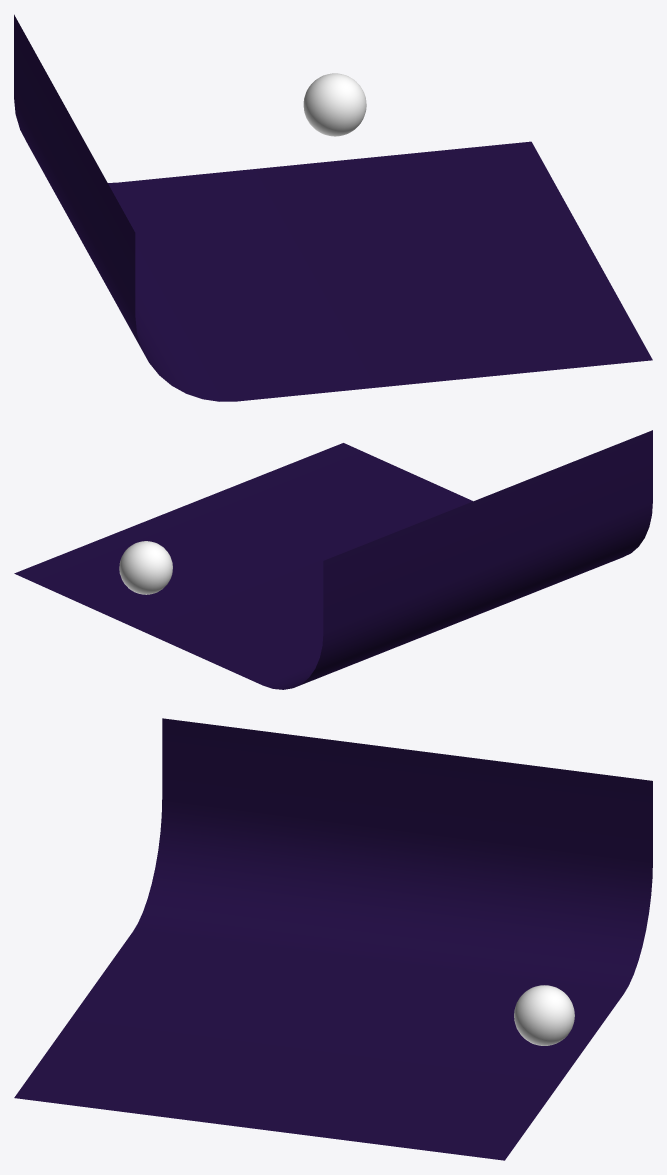
File: ApplyTransform.fbx
3 views of the same model, one above another, from view 1: azimuth 30°, elevation 25°; view 2: azimuth 150°, elevation 25°; view 3: azimuth 270°, elevation 25° (orthographic). The views are drawn at different scales.
Visible parts, largest first — view 1: Plane, Sphere; view 2: Plane, Sphere; view 3: Plane, Sphere.
Part boxes in pixels (box(x1,y1,x2,y2)): Plane: box(14, 14, 652, 401); Sphere: box(303, 73, 366, 136); Plane: box(14, 430, 652, 689); Sphere: box(119, 541, 172, 594); Plane: box(14, 718, 652, 1160); Sphere: box(514, 985, 574, 1045).
Size of the model in its own units: 2569 by 765 by 2569.
